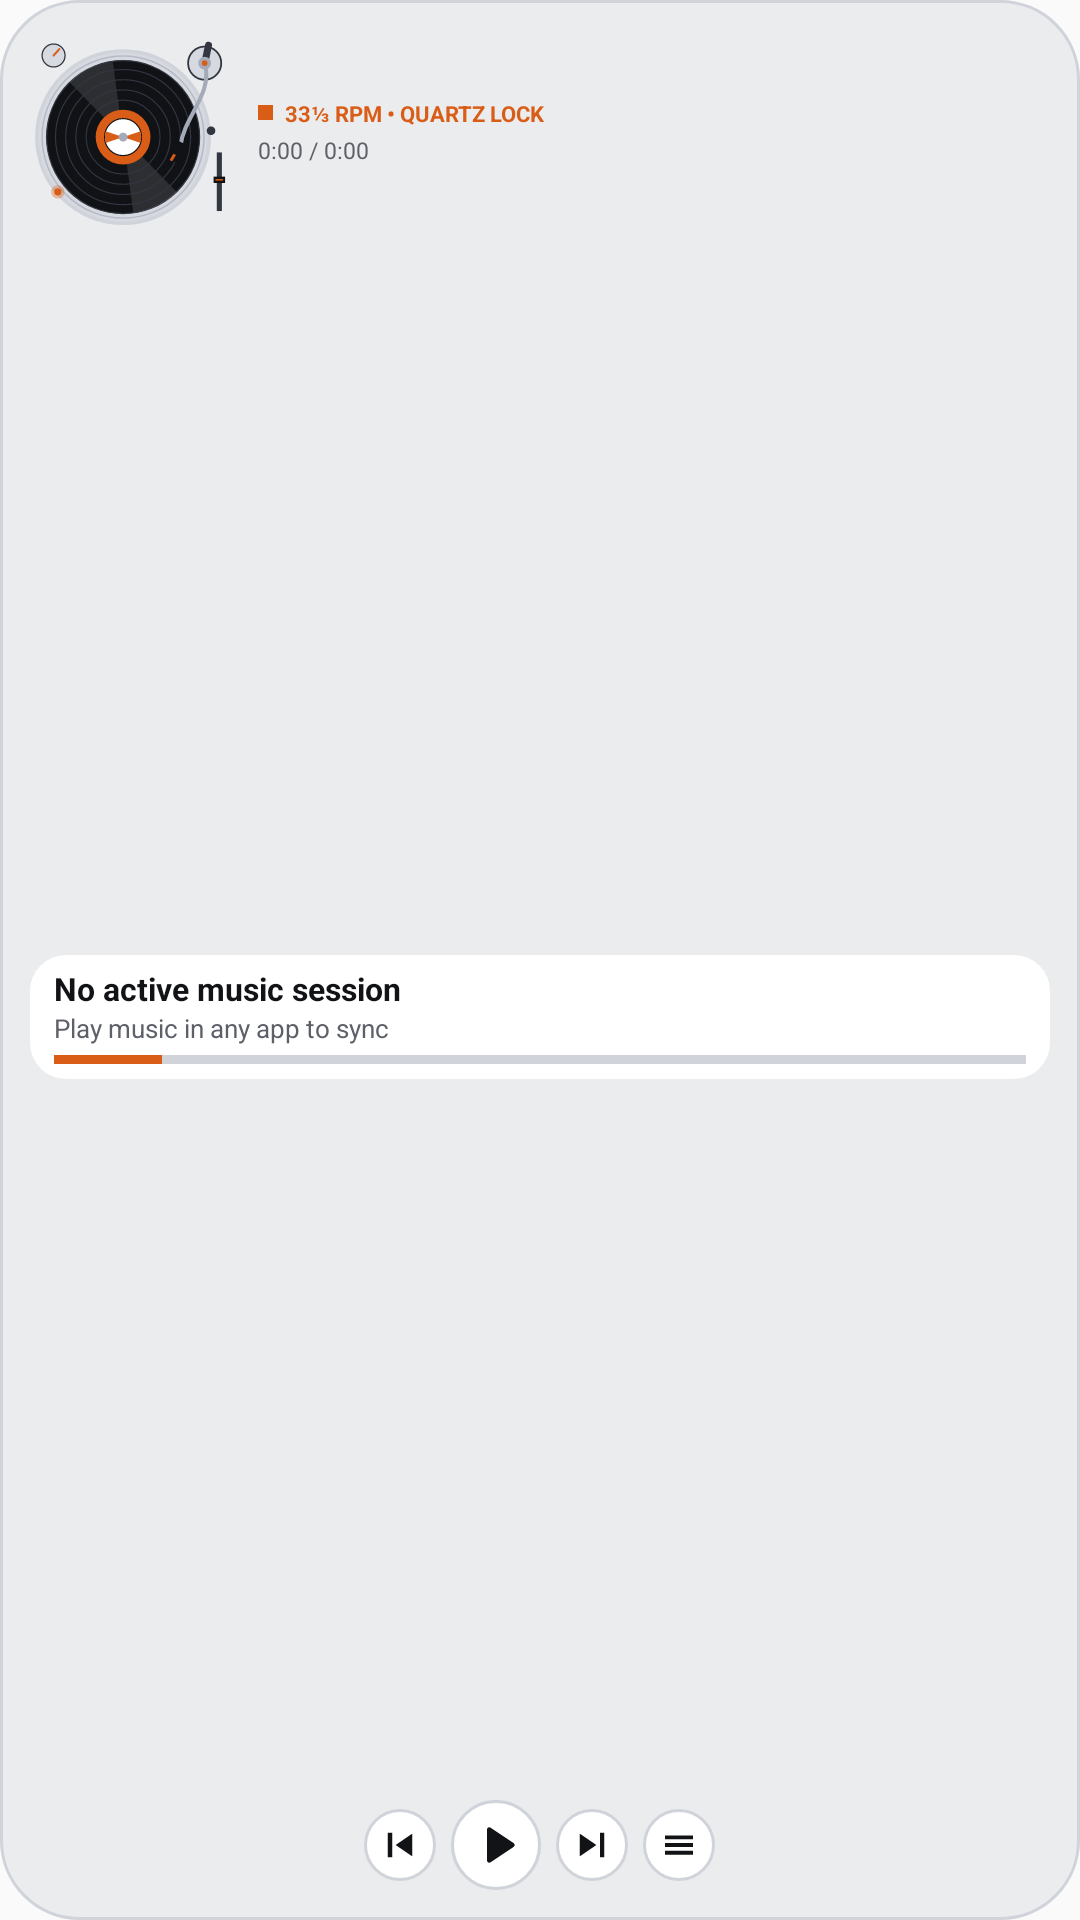

Icons on this 1080w x 1920h Android screen, each with the point to tap as point (x, y):
menu: point (679, 1845)
next: point (592, 1845)
play: point (496, 1845)
prev: point (400, 1845)
vinyl turntable: point (130, 133)
